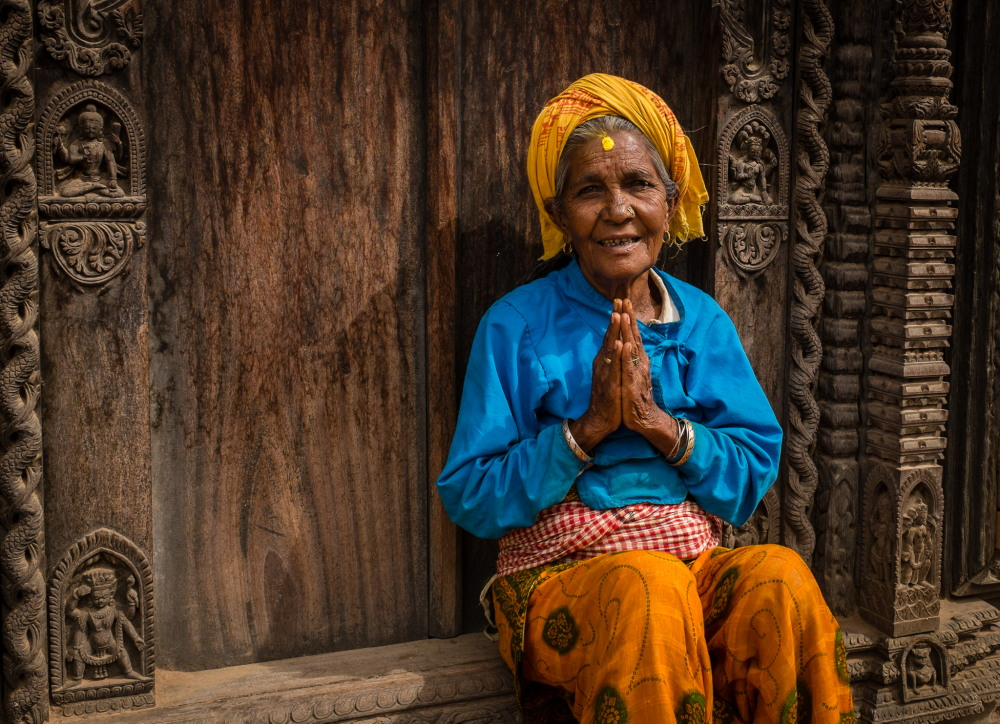human: (429, 65, 867, 724)
